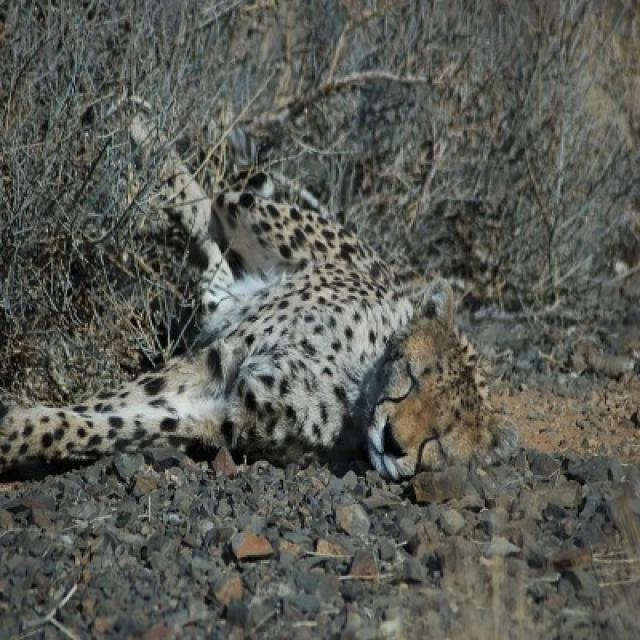Cheetah: (0, 189, 496, 486)
